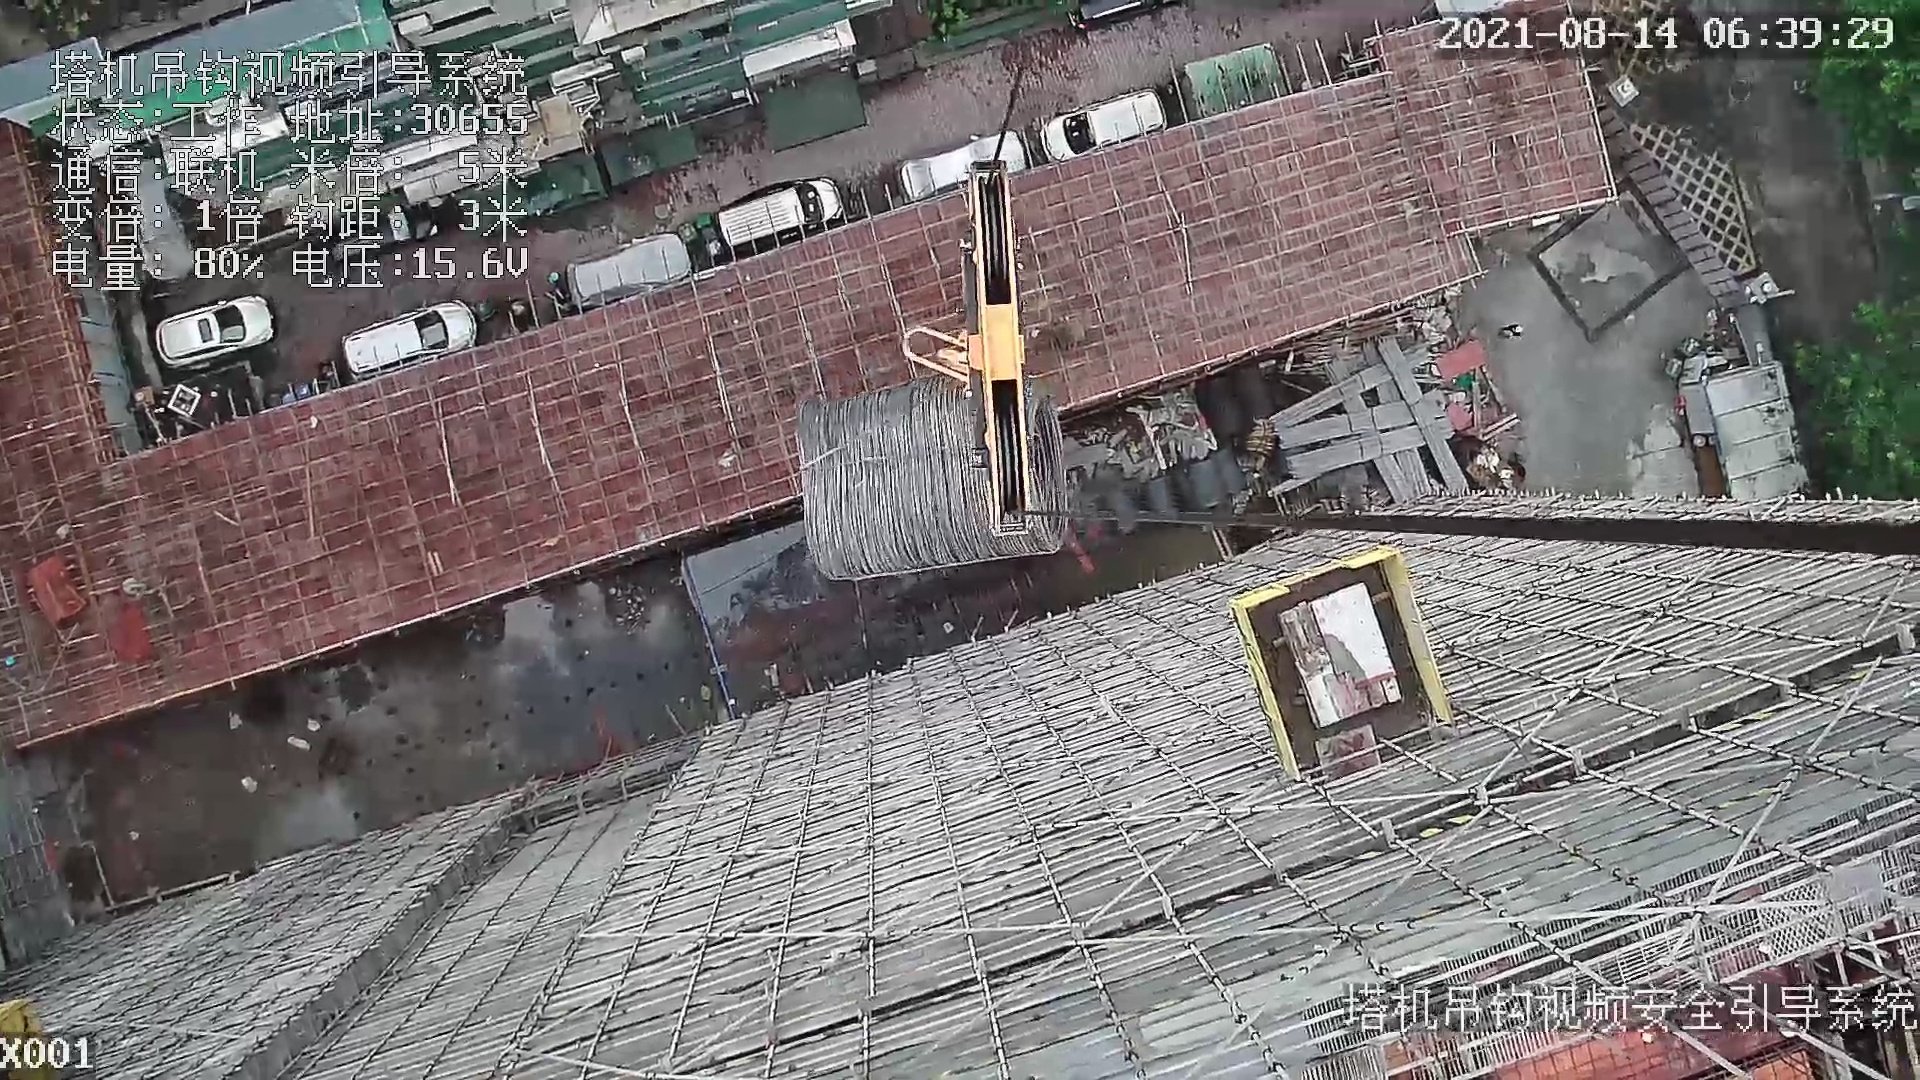hook: (899, 160, 1040, 546)
